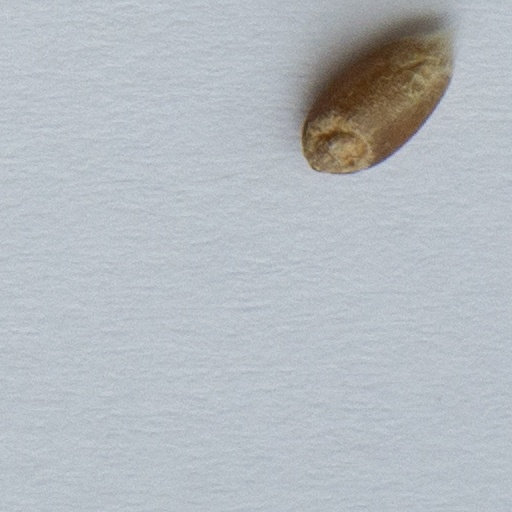Wheat-grain-poly: (303, 37, 449, 171)
